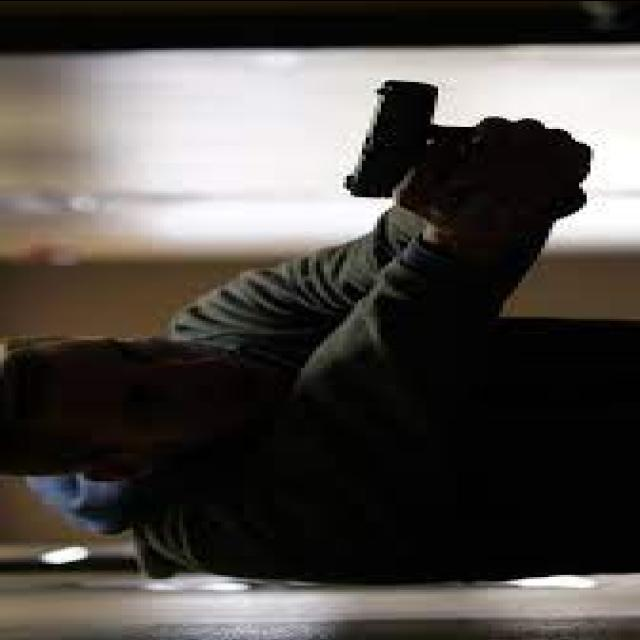weapons: (318, 55, 598, 229)
